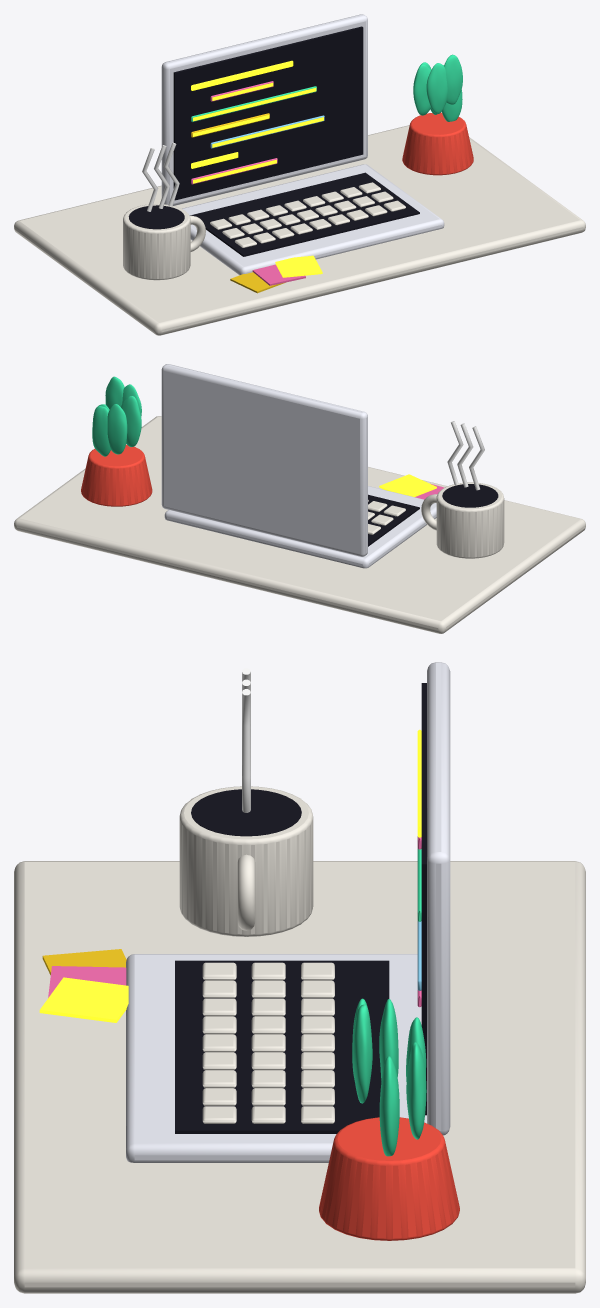
File: laptop.glb
3 views of the same model, one above another, from view 1: azimuth 30°, elevation 25°; view 2: azimuth 150°, elevation 25°; view 3: azimuth 270°, elevation 25° (orthographic). The views are drawn at different scales.
Parts seen in each view (by area): view 1: desk, screen, base, plant, bob_mug, keys, code, notes, bob_steam; view 2: desk, screen, plant, bob_mug, base, bob_steam, notes, keys; view 3: desk, base, plant, bob_mug, keys, screen, notes, code, bob_steam.
Boxes of the visible parts, x1=… form: desk: x1=14, y1=125, x2=585, y2=335; screen: x1=161, y1=14, x2=367, y2=205; base: x1=182, y1=164, x2=444, y2=275; plant: x1=402, y1=54, x2=473, y2=175; bob_mug: x1=123, y1=204, x2=205, y2=280; keys: x1=210, y1=182, x2=405, y2=247; code: x1=191, y1=60, x2=324, y2=184; notes: x1=230, y1=255, x2=322, y2=293; bob_steam: x1=142, y1=142, x2=179, y2=211; desk: x1=14, y1=416, x2=585, y2=633; screen: x1=161, y1=364, x2=367, y2=556; plant: x1=81, y1=376, x2=152, y2=506; bob_mug: x1=421, y1=482, x2=504, y2=558; base: x1=164, y1=486, x2=436, y2=568; bob_steam: x1=447, y1=421, x2=484, y2=490; notes: x1=379, y1=474, x2=444, y2=499; keys: x1=368, y1=500, x2=405, y2=534; desk: x1=14, y1=861, x2=585, y2=1293; base: x1=126, y1=954, x2=426, y2=1162; plant: x1=319, y1=998, x2=459, y2=1240; bob_mug: x1=179, y1=786, x2=313, y2=936; keys: x1=202, y1=962, x2=334, y2=1123; screen: x1=421, y1=662, x2=450, y2=1135; notes: x1=39, y1=949, x2=128, y2=1022; code: x1=417, y1=729, x2=421, y2=1007; bob_steam: x1=242, y1=668, x2=250, y2=812.
Size of the model in its own units: 11 by 4.1 by 6.4.
